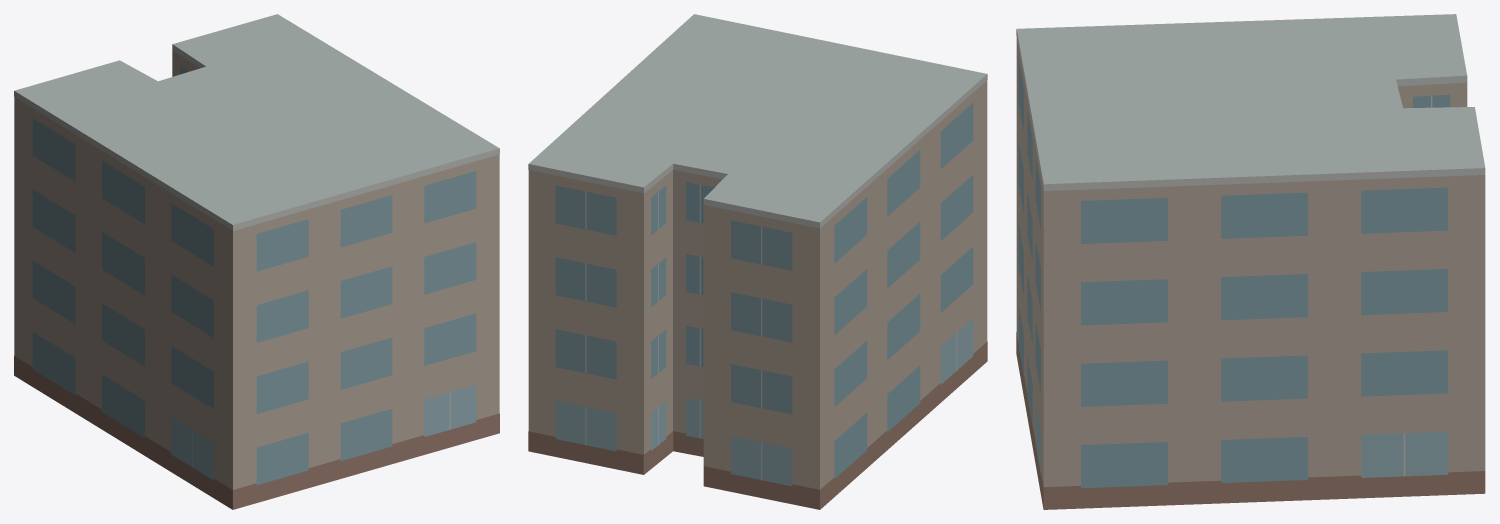
The model's file is survey-upis-32781171.glb.
3 views of the same model, side by side, from view 1: azimuth 30°, elevation 25°; view 2: azimuth 150°, elevation 25°; view 3: azimuth 270°, elevation 25° (orthographic). The views are drawn at different scales.
Parts seen in each view (by area): view 1: survey-upis-32781171.tmp; view 2: survey-upis-32781171.tmp; view 3: survey-upis-32781171.tmp.
Boxes of the visible parts, left/top/right/bottom form: survey-upis-32781171.tmp: left=14, top=14, right=499, bottom=509; survey-upis-32781171.tmp: left=528, top=14, right=987, bottom=509; survey-upis-32781171.tmp: left=1016, top=14, right=1485, bottom=509.
Bounding box in the file's own units: 13.02 × 11.6 × 15.15.
